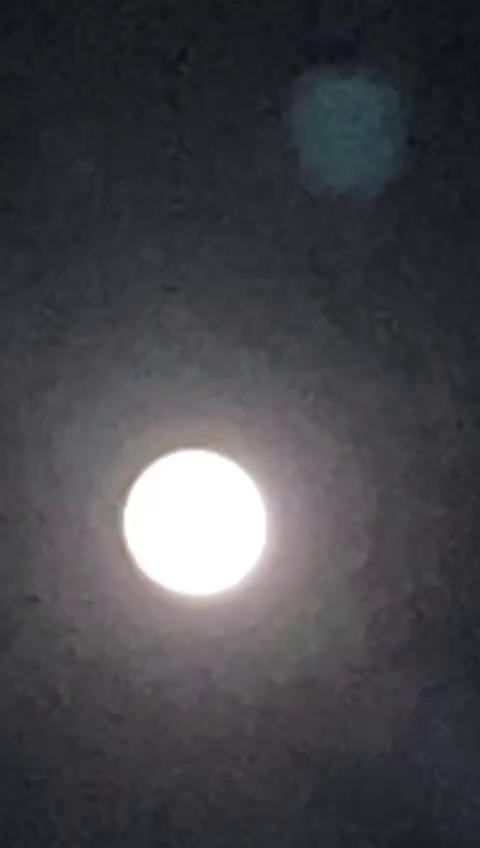moon: (122, 426, 289, 618)
